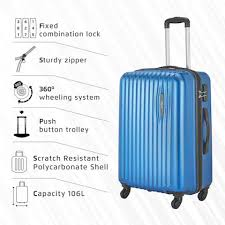suitcase: (118, 15, 214, 208)
